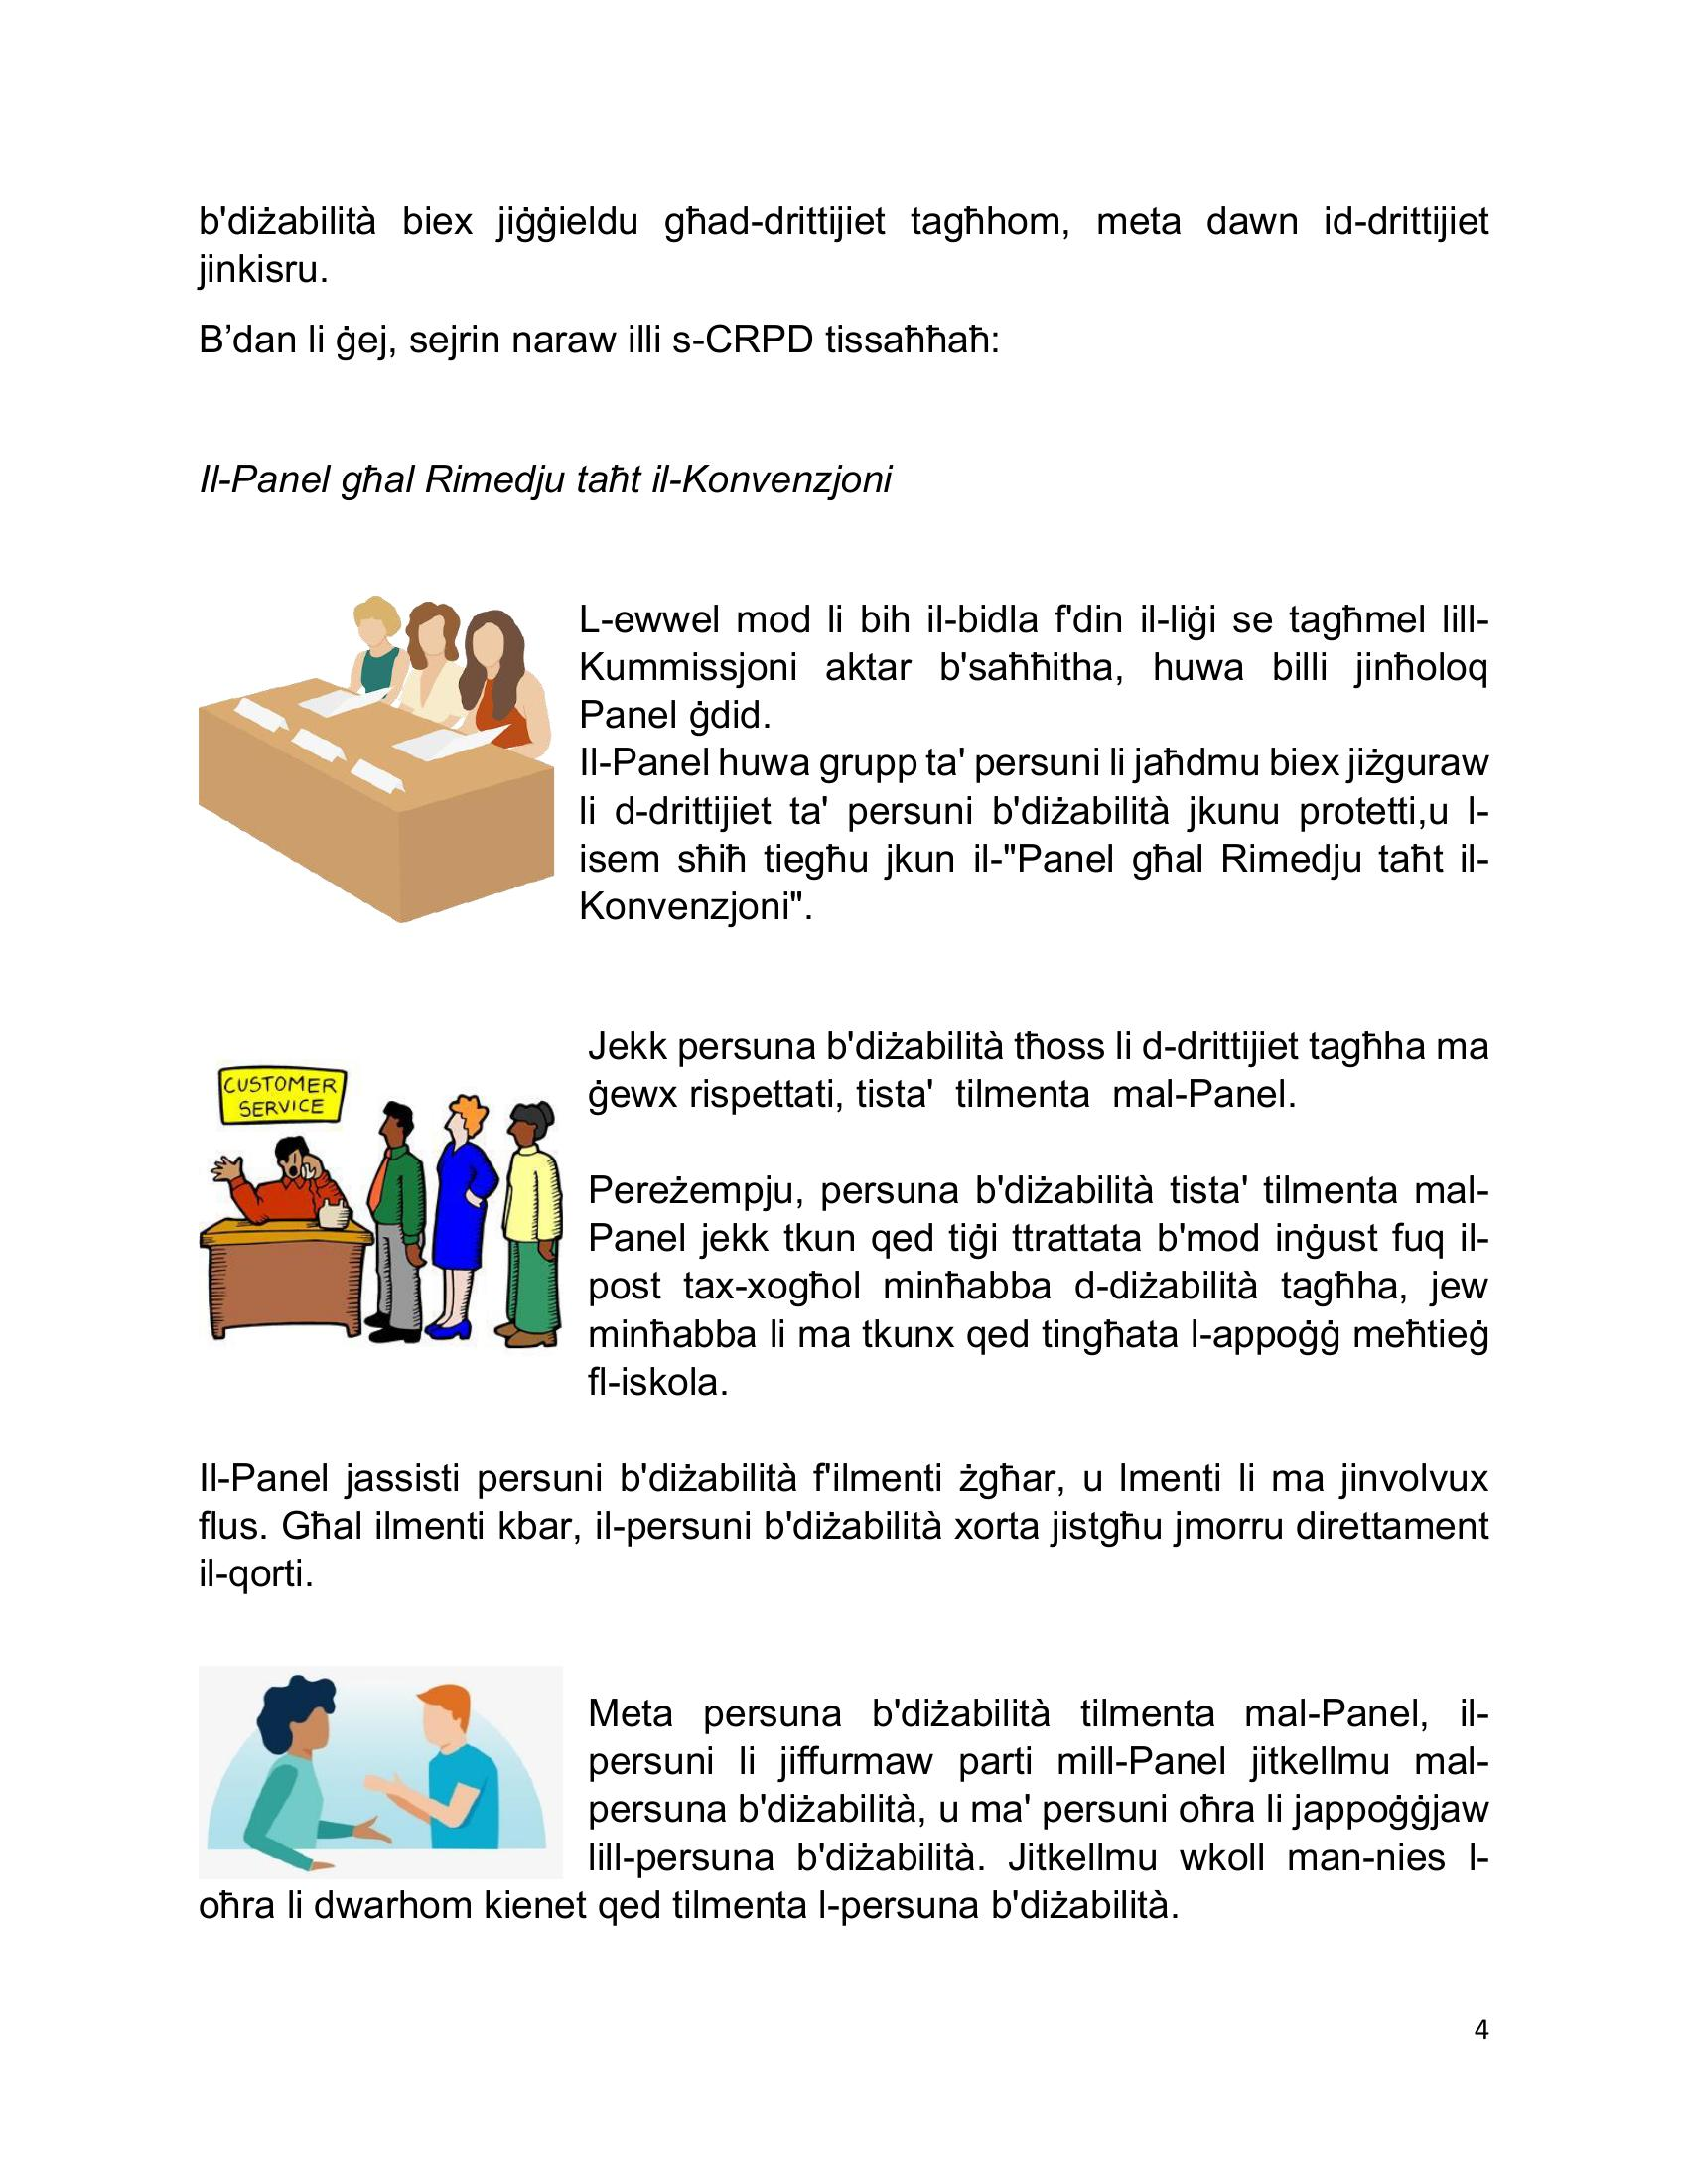text: (566, 590, 1518, 1425), (168, 165, 1521, 526), (168, 1682, 1518, 1945), (176, 1439, 1514, 1610)
whiteout: (183, 1647, 573, 1876)
